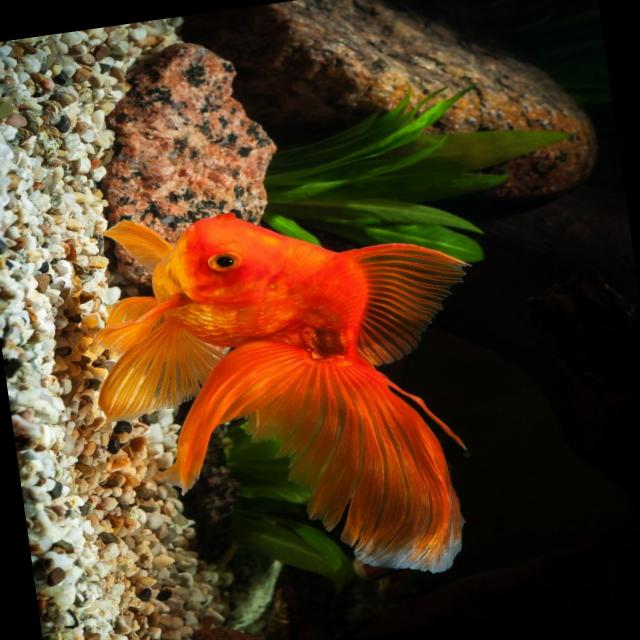GoldFish: (84, 172, 517, 614)
